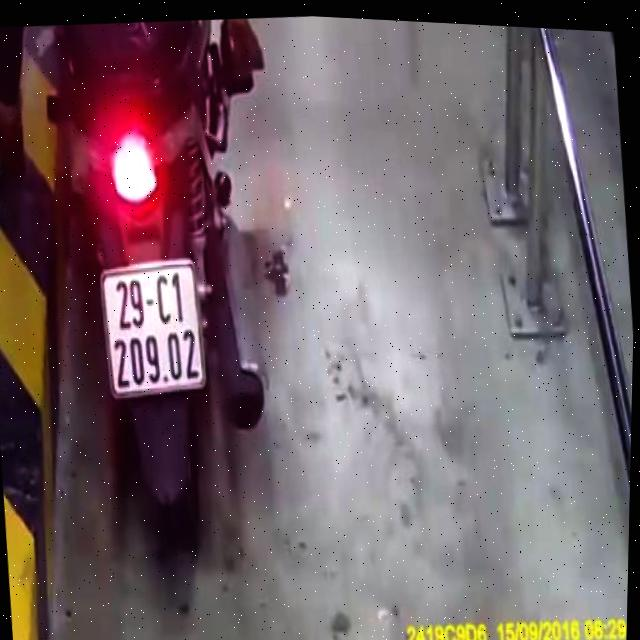motorcycle: (19, 31, 300, 564)
plate: (89, 252, 211, 405)
